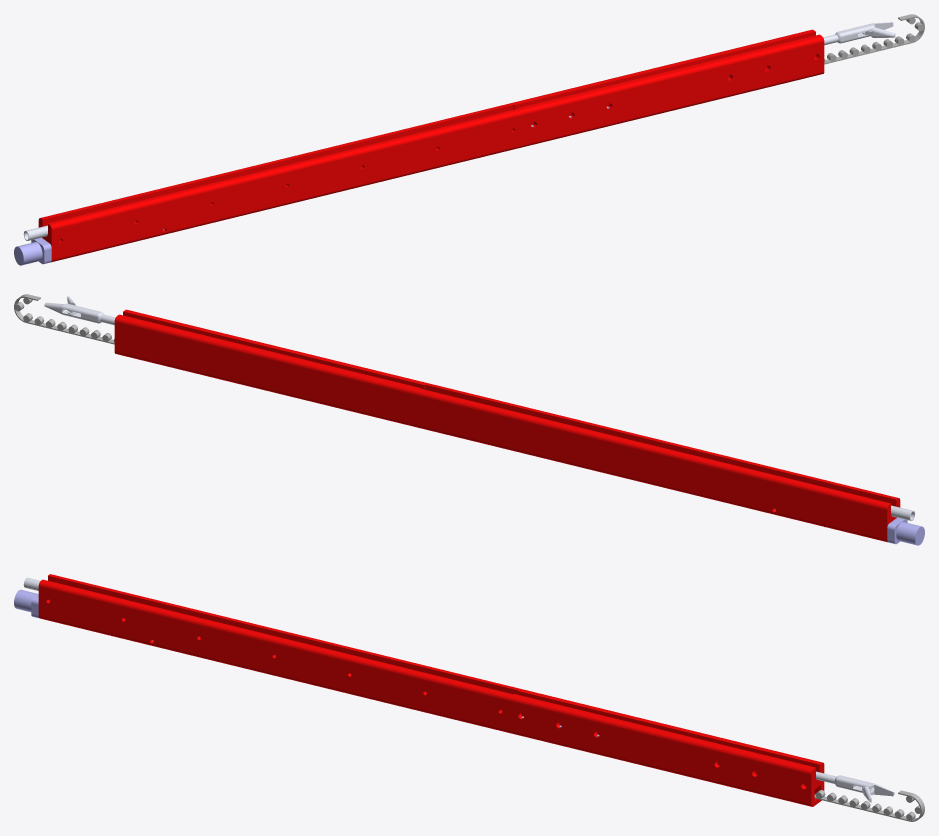
The model's file is microkiap v4 (hooking position) (HEAD ONLY, JAW OPEN).fbx.
3 views of the same model, one above another, from view 1: azimuth 30°, elevation 25°; view 2: azimuth 150°, elevation 25°; view 3: azimuth 330°, elevation 25° (orthographic).
Parts seen in each view (by area): view 1: imagetostl_mesh2, imagetostl_mesh1, imagetostl_mesh0, imagetostl_mesh3; view 2: imagetostl_mesh2, imagetostl_mesh1, imagetostl_mesh0, imagetostl_mesh3; view 3: imagetostl_mesh2, imagetostl_mesh0, imagetostl_mesh1, imagetostl_mesh3.
Boxes of the visible parts, bbox=[...] form: imagetostl_mesh2: bbox=[38, 29, 824, 262]; imagetostl_mesh1: bbox=[23, 22, 895, 240]; imagetostl_mesh0: bbox=[824, 14, 924, 64]; imagetostl_mesh3: bbox=[14, 106, 609, 265]; imagetostl_mesh2: bbox=[114, 309, 900, 542]; imagetostl_mesh1: bbox=[44, 296, 915, 520]; imagetostl_mesh0: bbox=[14, 294, 114, 344]; imagetostl_mesh3: bbox=[825, 517, 924, 545]; imagetostl_mesh2: bbox=[38, 574, 824, 806]; imagetostl_mesh0: bbox=[814, 790, 924, 821]; imagetostl_mesh1: bbox=[23, 577, 894, 802]; imagetostl_mesh3: bbox=[14, 589, 599, 736].
Bounding box in the file's own units: 24000 × 1050 × 885.
